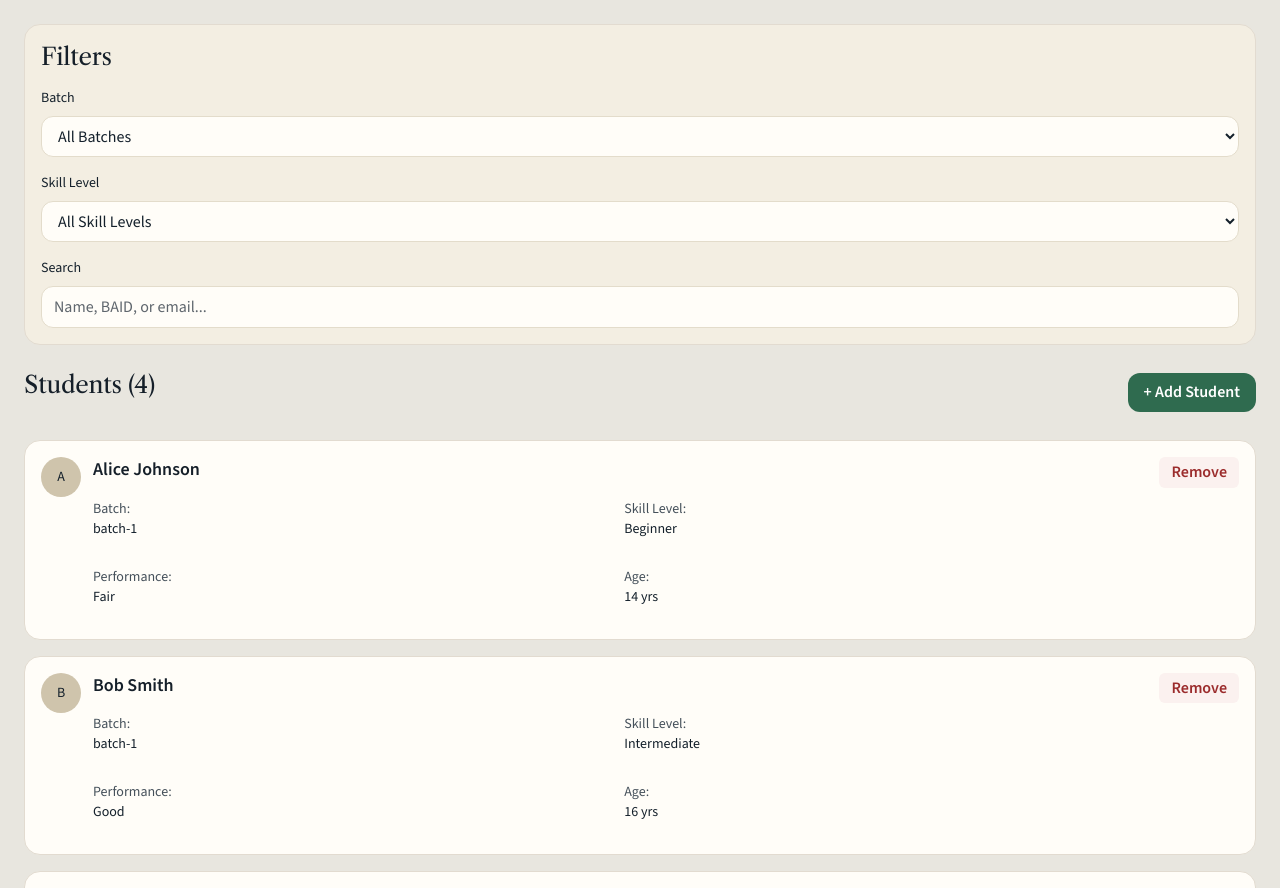
Test: CoachStudentsTab › Student Quick View Modal › closes quick view modal when close button is clicked
// Open modal
Click the heading "Alice Johnson" at (146, 469), box x1=93 y1=457 x2=200 y2=481
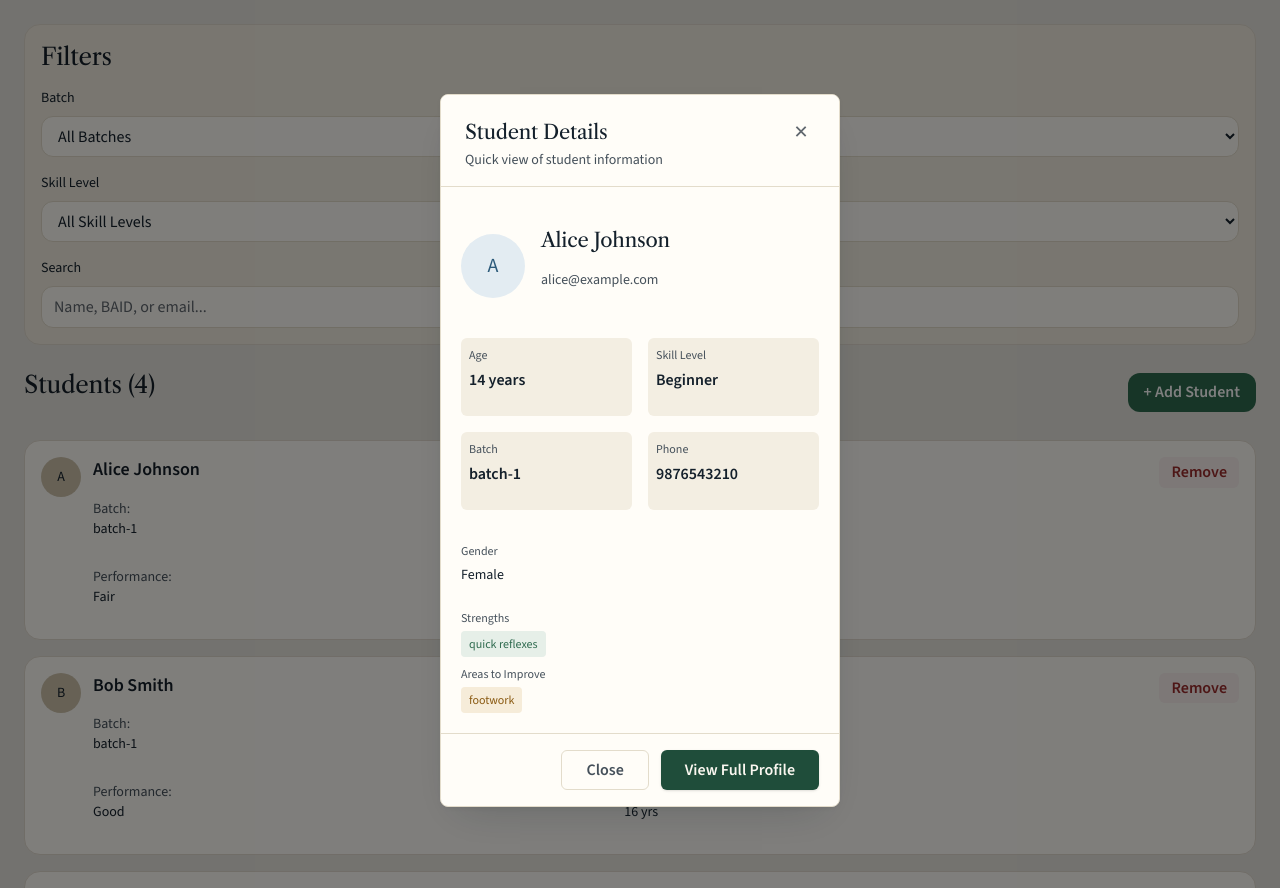
Result: the dialog is shown at x1=440 y1=94 x2=840 y2=806
// Close modal via close button
Click the button named "Close student details modal" at (801, 132), box x1=787 y1=118 x2=815 y2=146
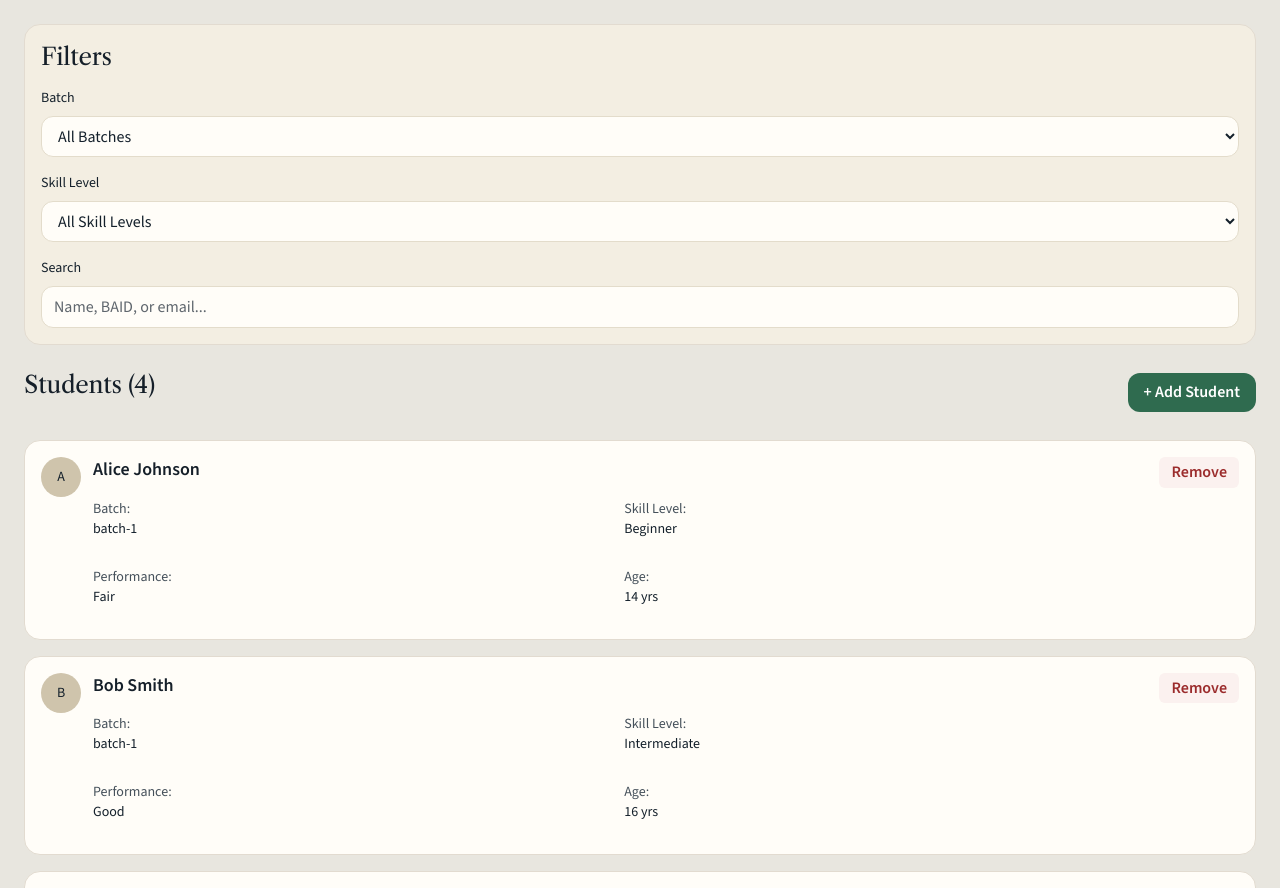
Result: the dialog is gone
